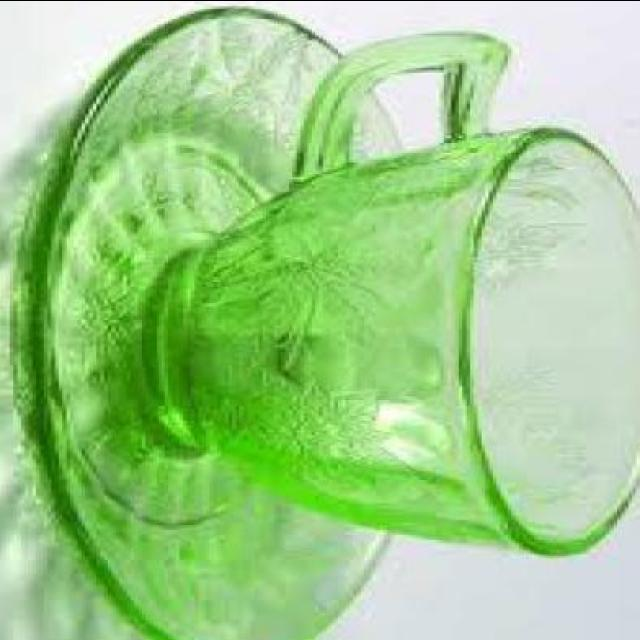kaca: (153, 34, 640, 558), (25, 10, 421, 640)
